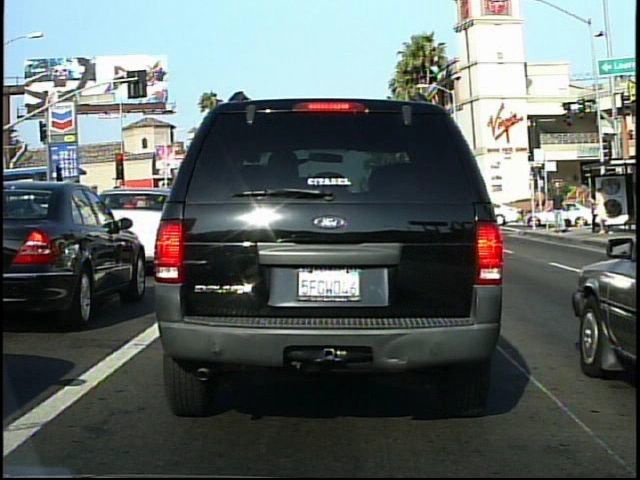person: (587, 182, 615, 239), (550, 184, 570, 237)
